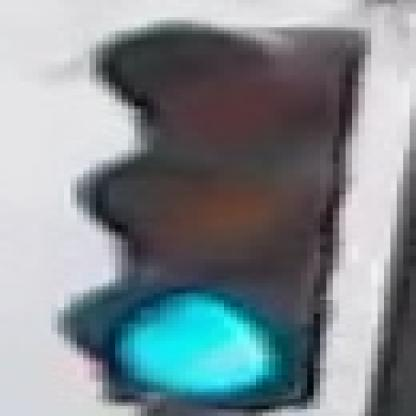Green Light: (32, 24, 382, 409)
